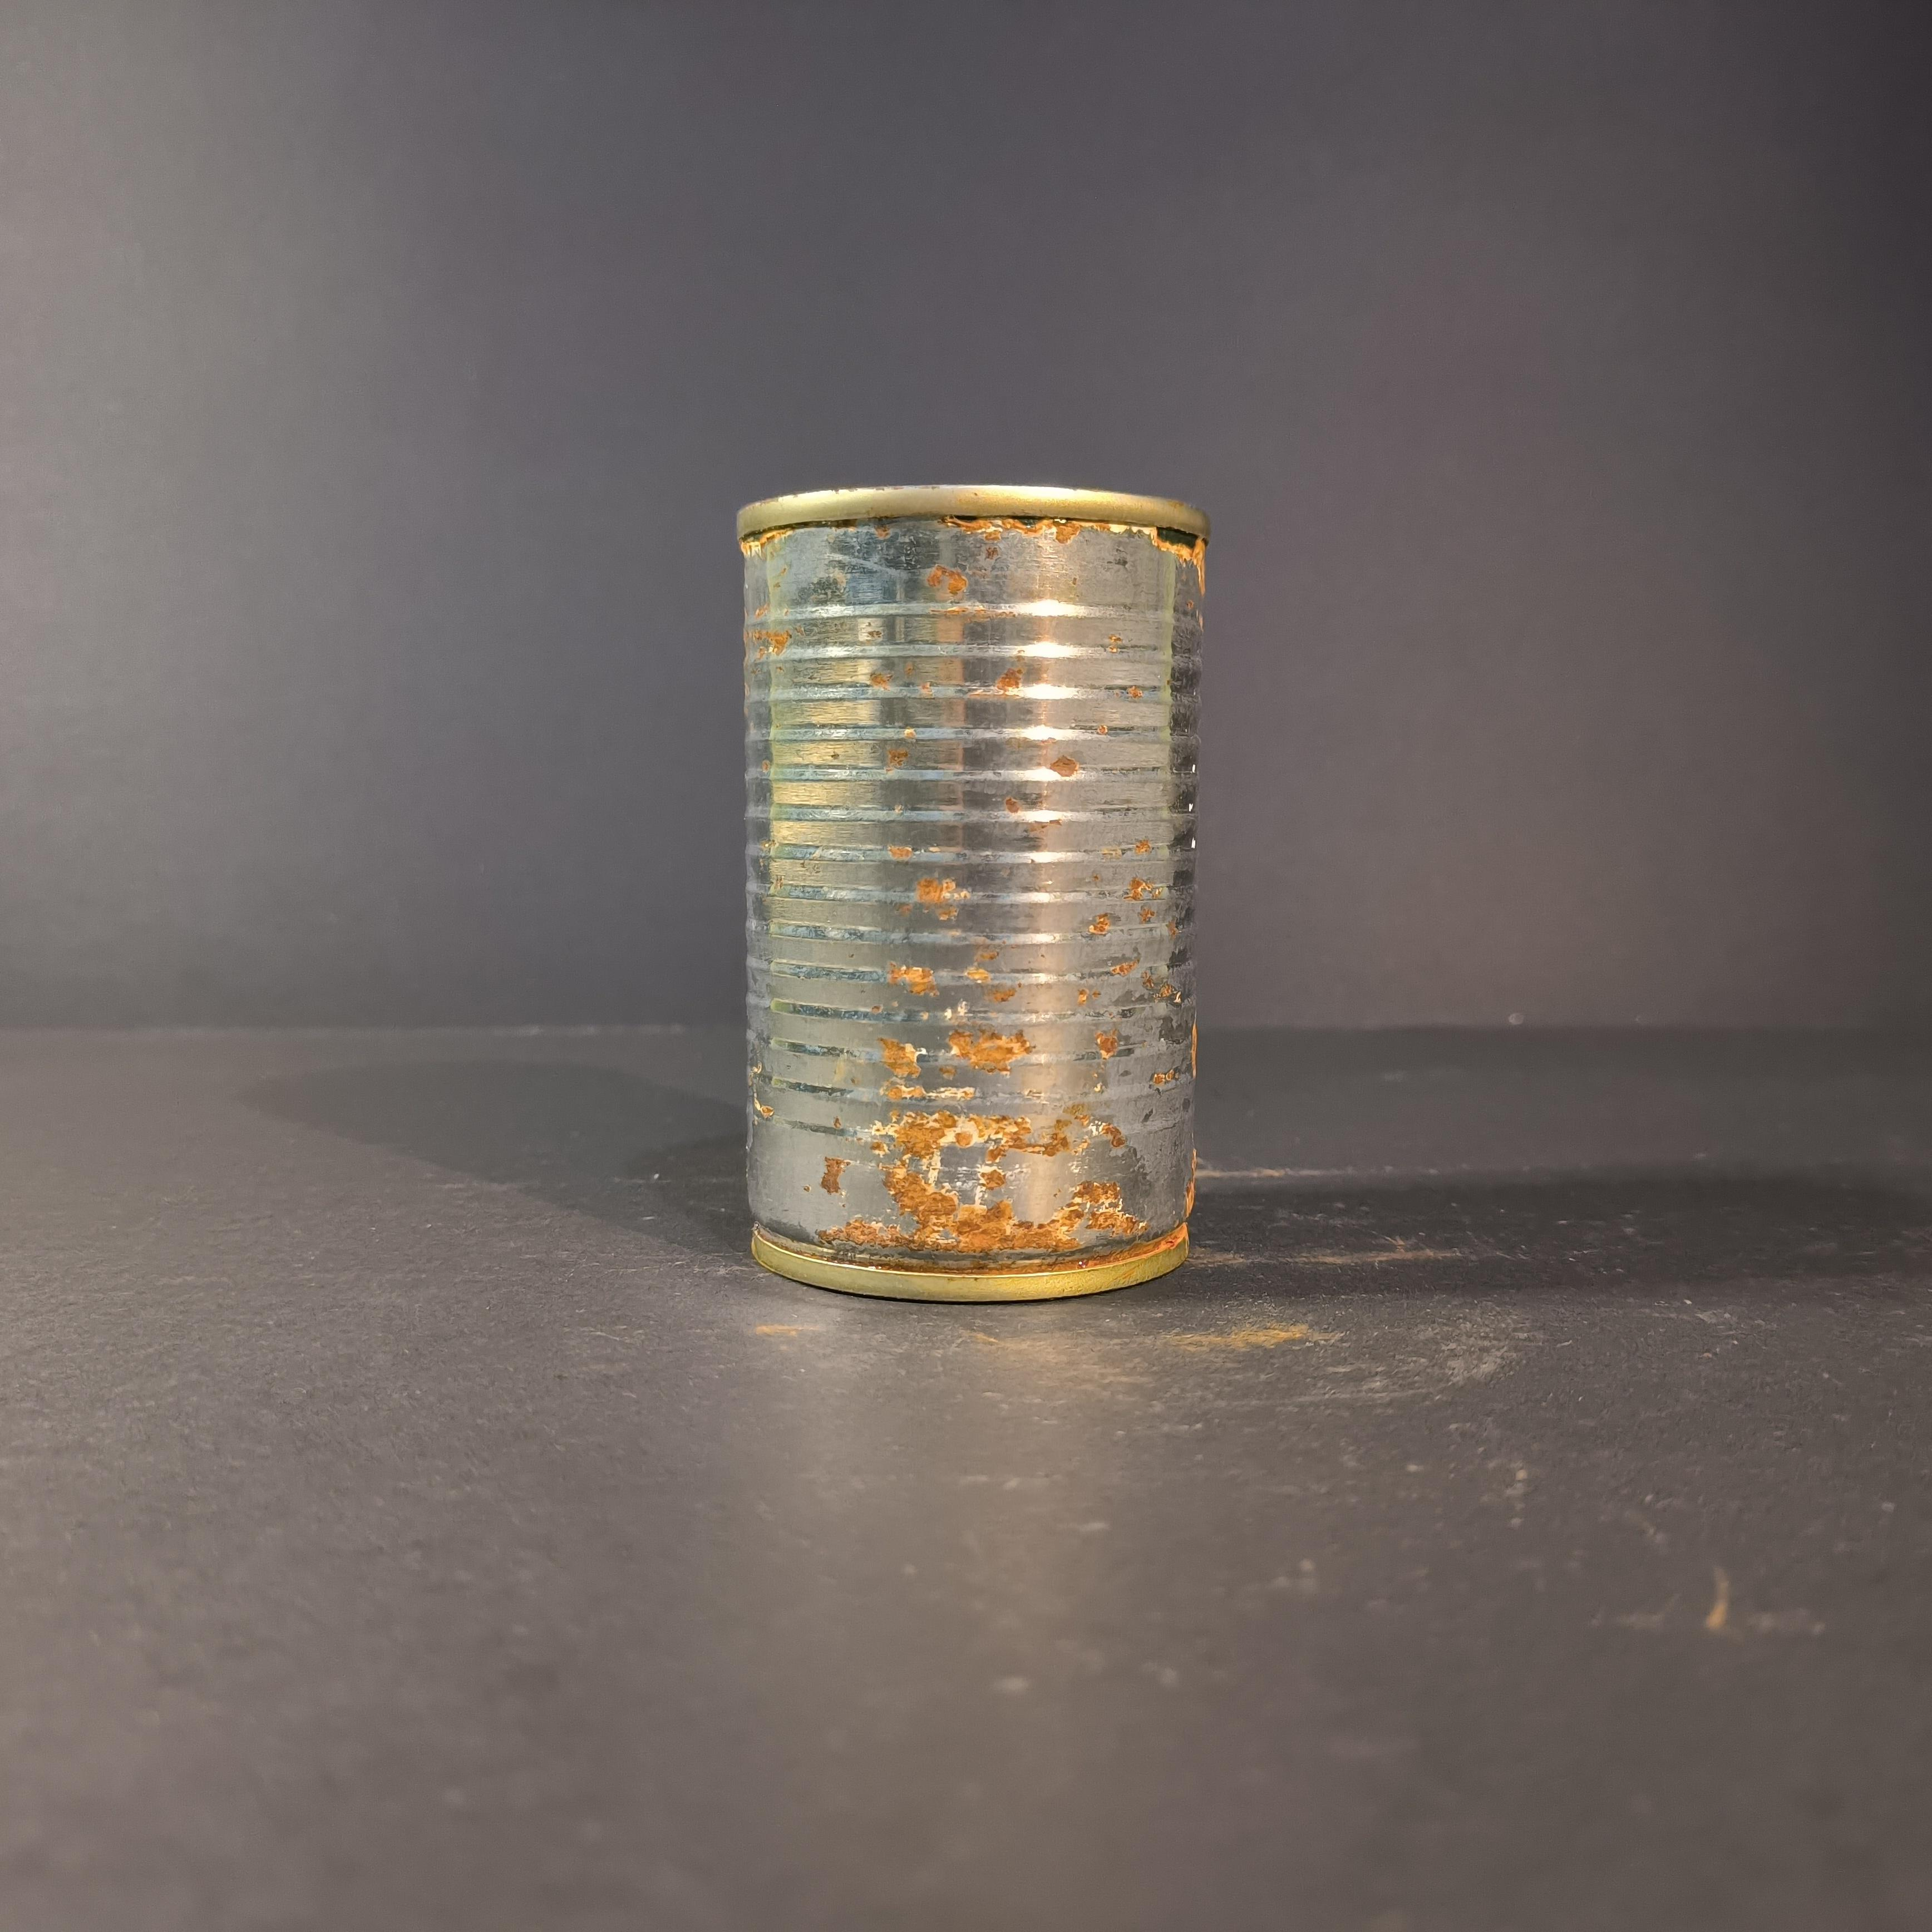Rusted: (718, 467, 1230, 1313)
